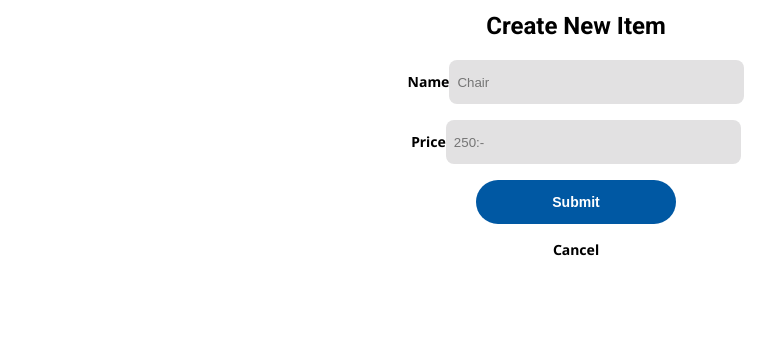
Test: form should display error message if input is not valid when submit button is clicked
What coordinates should you click on to do the following:
click the button with test id "submit"
I would click on:
 (576, 202)
Its box is [476,180,676,224].
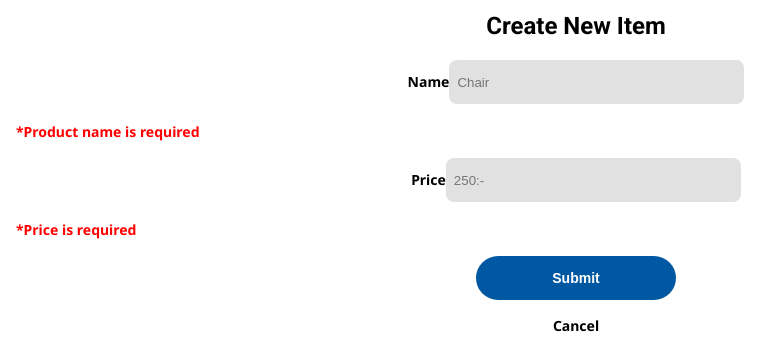
Expected: the text "*Product name is required" is shown, [16,122,200,141]
Expected: the text "*Price is required" is shown, [16,220,136,239]
